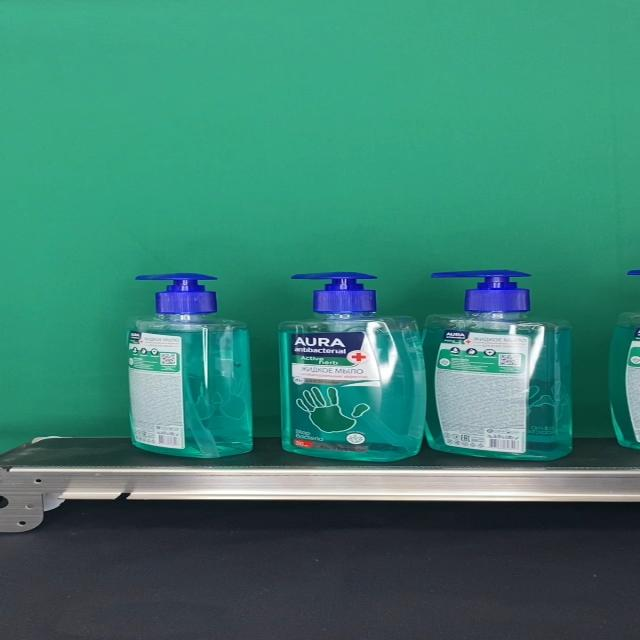Bottle: (420, 269, 572, 461), (278, 272, 427, 462), (125, 273, 253, 458)
Cap: (431, 270, 533, 312), (289, 272, 379, 313), (136, 273, 220, 314)
